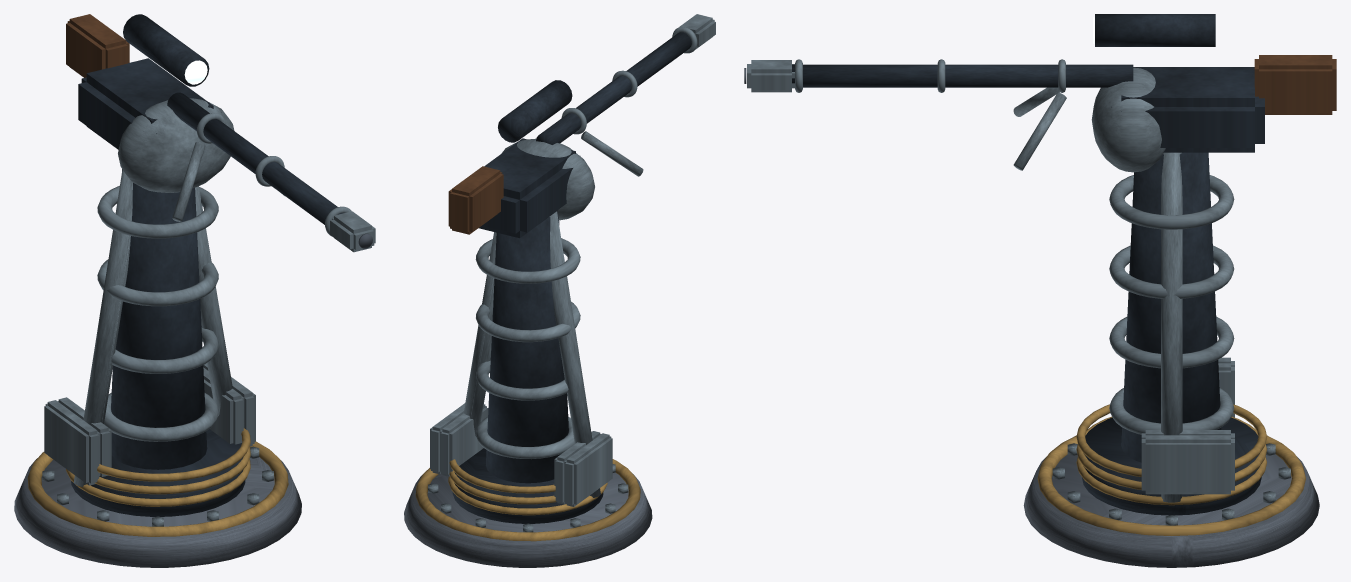
File: tower_sniper_3.glb
3 views of the same model, side by side, from view 1: azimuth 30°, elevation 25°; view 2: azimuth 150°, elevation 25°; view 3: azimuth 270°, elevation 25° (orthographic). The views are drawn at different scales.
Parts seen in each view (by area): view 1: Weathered_blue_steel, Forged_black_iron, Weathered_granite, Forged_black_iron.001, Weathered_blue_steel.001, Antique_brass, Old_oak; view 2: Weathered_blue_steel, Forged_black_iron, Forged_black_iron.001, Weathered_granite, Antique_brass, Weathered_blue_steel.001, Old_oak; view 3: Weathered_blue_steel, Forged_black_iron.001, Forged_black_iron, Weathered_granite, Antique_brass, Weathered_blue_steel.001, Old_oak.
Part boxes in pixels (bbox=[...]): Weathered_blue_steel: bbox=[42, 169, 273, 526]; Forged_black_iron: bbox=[71, 169, 245, 516]; Weathered_granite: bbox=[14, 457, 301, 567]; Forged_black_iron.001: bbox=[78, 14, 343, 224]; Weathered_blue_steel.001: bbox=[118, 98, 375, 252]; Antique_brass: bbox=[27, 428, 288, 536]; Old_oak: bbox=[66, 14, 129, 77]; Weathered_blue_steel: bbox=[428, 211, 628, 532]; Forged_black_iron: bbox=[452, 211, 603, 523]; Forged_black_iron.001: bbox=[479, 32, 691, 238]; Weathered_granite: bbox=[404, 472, 652, 567]; Antique_brass: bbox=[415, 459, 640, 541]; Weathered_blue_steel.001: bbox=[502, 14, 715, 220]; Old_oak: bbox=[448, 166, 503, 234]; Weathered_blue_steel: bbox=[1052, 152, 1290, 525]; Forged_black_iron.001: bbox=[792, 14, 1264, 152]; Forged_black_iron: bbox=[1082, 152, 1261, 515]; Weathered_granite: bbox=[1023, 454, 1319, 567]; Antique_brass: bbox=[1037, 404, 1305, 535]; Weathered_blue_steel.001: bbox=[747, 59, 1165, 172]; Old_oak: bbox=[1254, 55, 1336, 114].
Size of the model in its own units: 2.7 by 4.93 by 5.41.
Materials: 7 (5 with a texture image).
